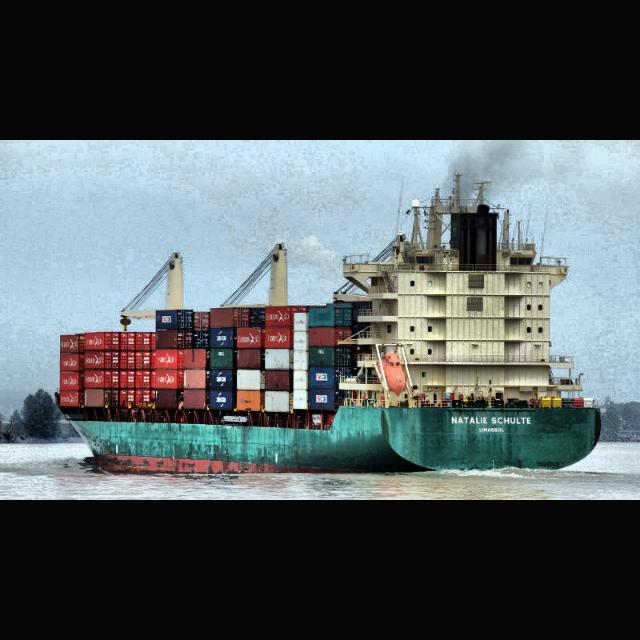container: (52, 171, 604, 477)
